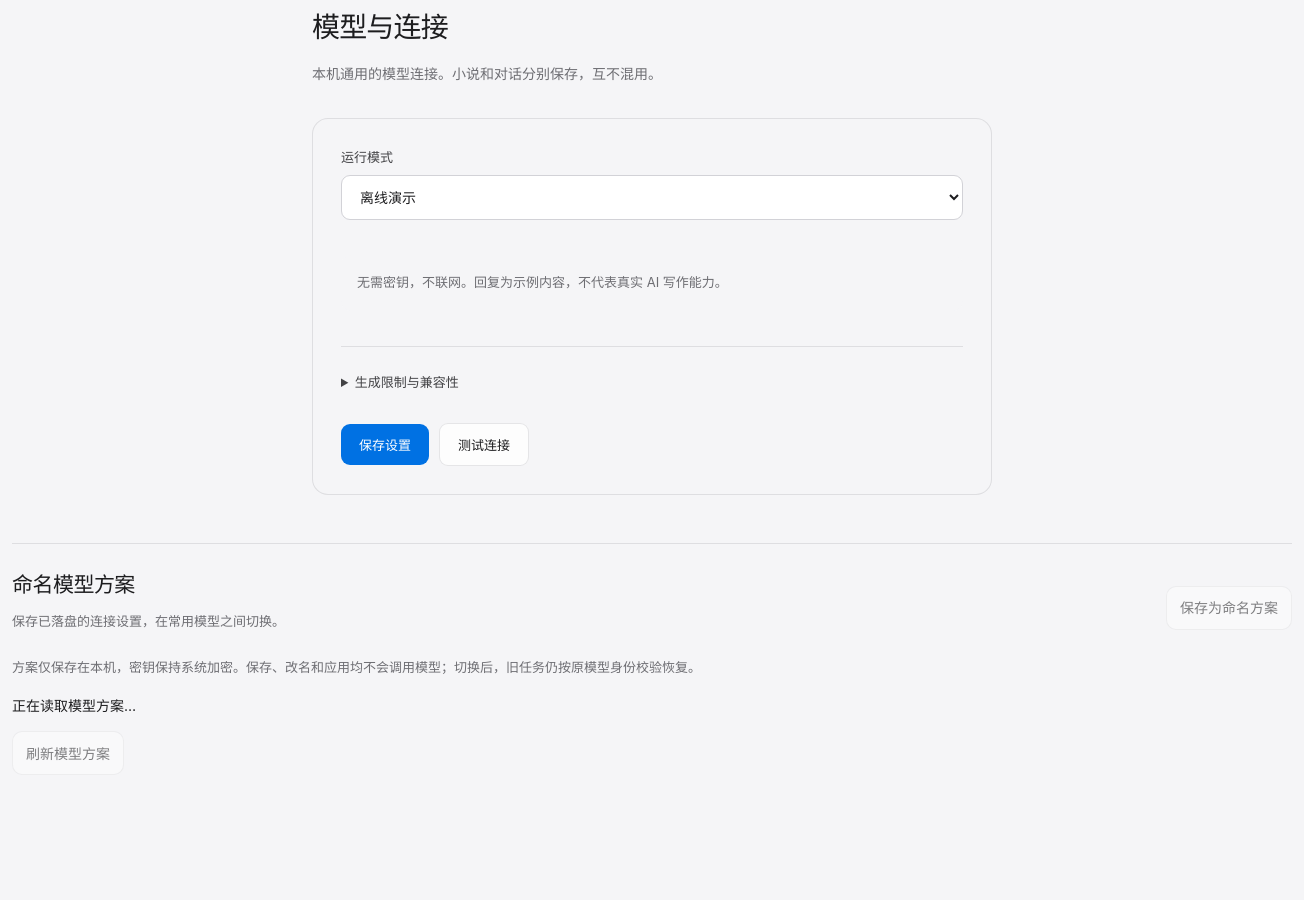
Test case: preserves edited settings during a failed background refresh
The width and height of the screenshot is (1304, 900).
Replace the text in the number field named "最大输出 Token" with "8192" at (652,371), box [341,346,963,397]
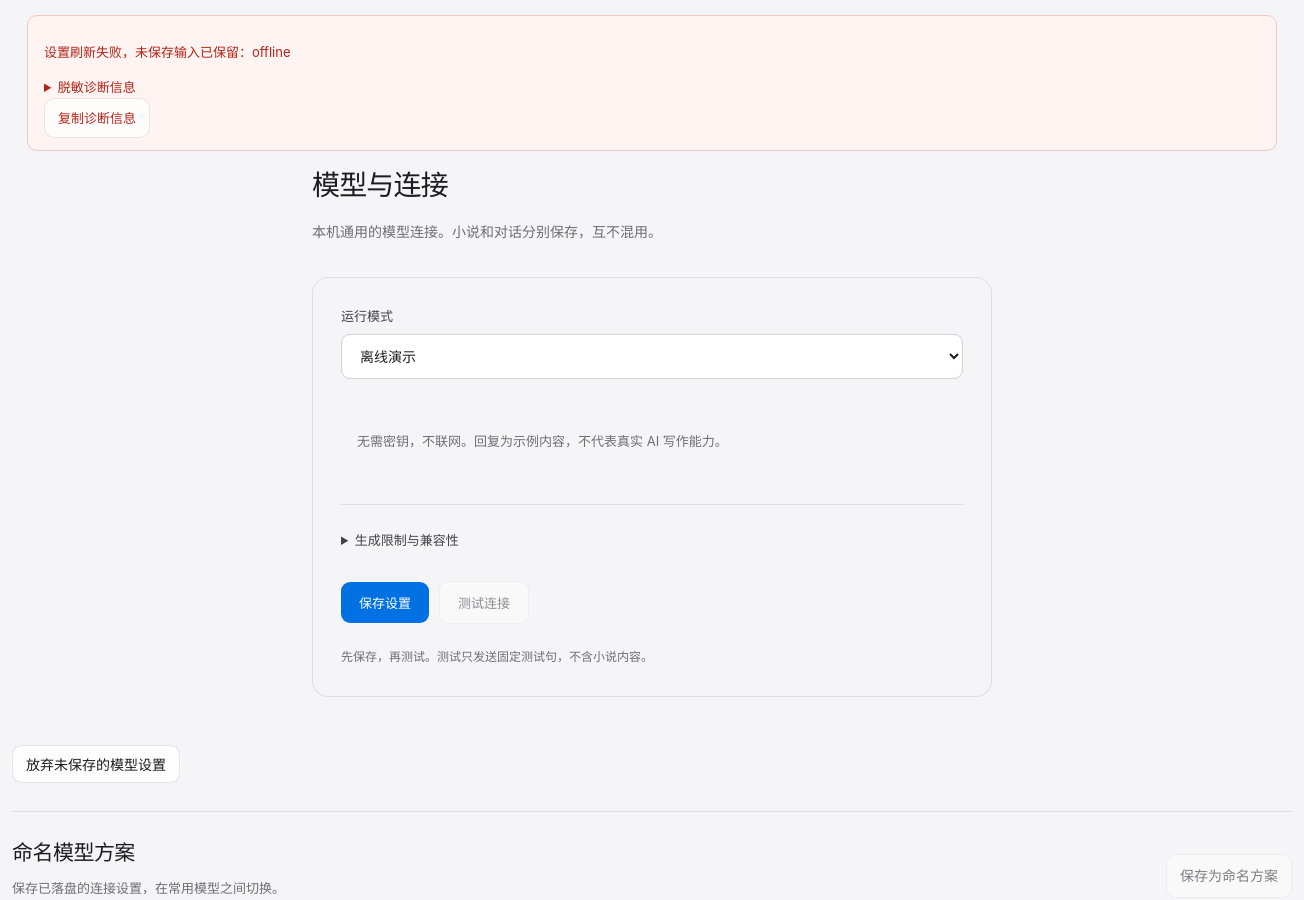
Check: the element named "最大输出 Token" holds "8192", box [341,504,963,555]
Check: the message shows "offline", box [44,44,290,60]
